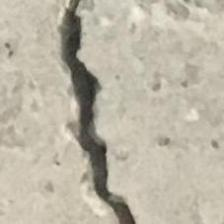Crack: (34, 0, 174, 224)
